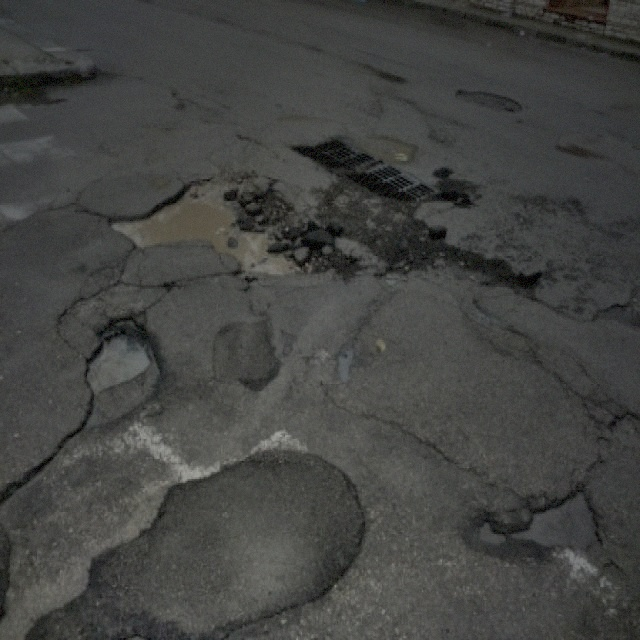pothole: (107, 167, 306, 276), (509, 464, 603, 567), (81, 322, 158, 404), (296, 228, 361, 284), (451, 82, 523, 122), (592, 292, 634, 334), (468, 506, 506, 548), (604, 400, 636, 437), (512, 263, 542, 300), (430, 181, 468, 208), (423, 218, 445, 243)
